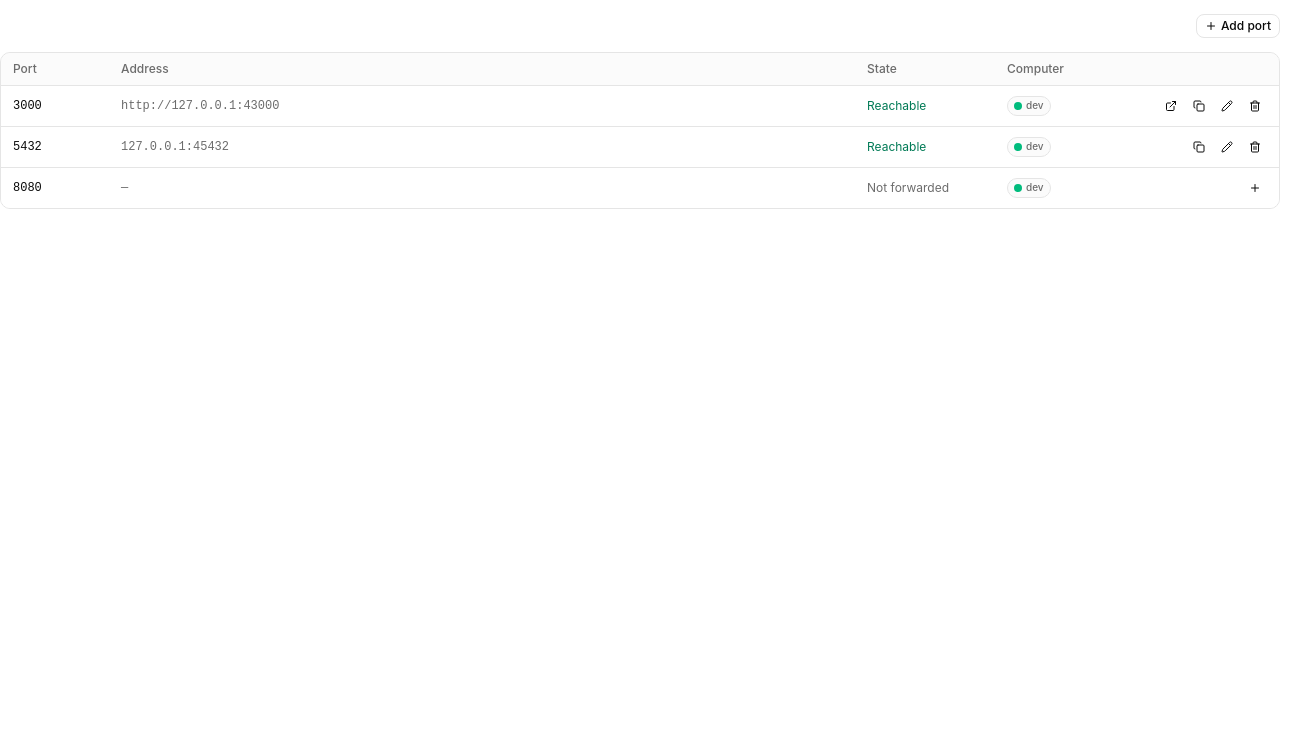
it: Network › adds an explicit mapping with automatic local port and preserves errors
Click the button "Add port".
click(1238, 26)  # box [1196,14,1280,38]
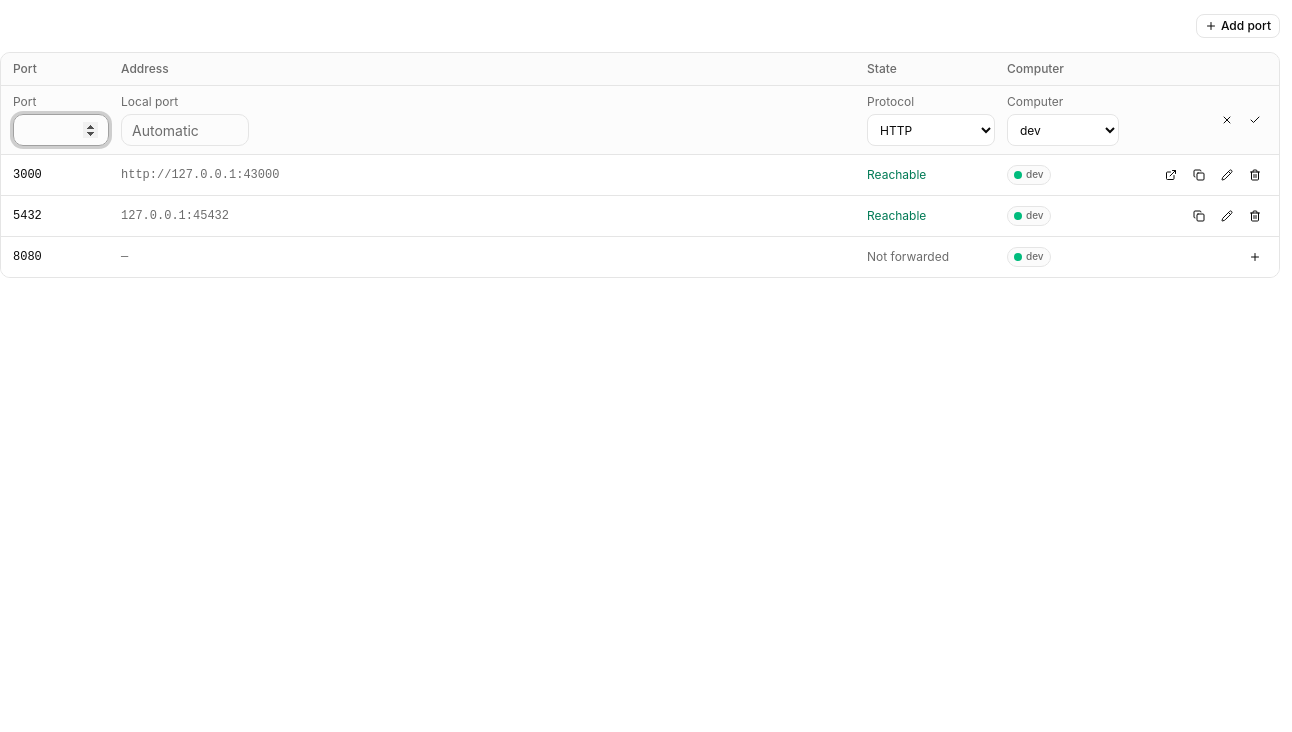
Type "9000" into the number field labelled "Port".
click(61, 130); type("9000")  # box [13,114,109,146]
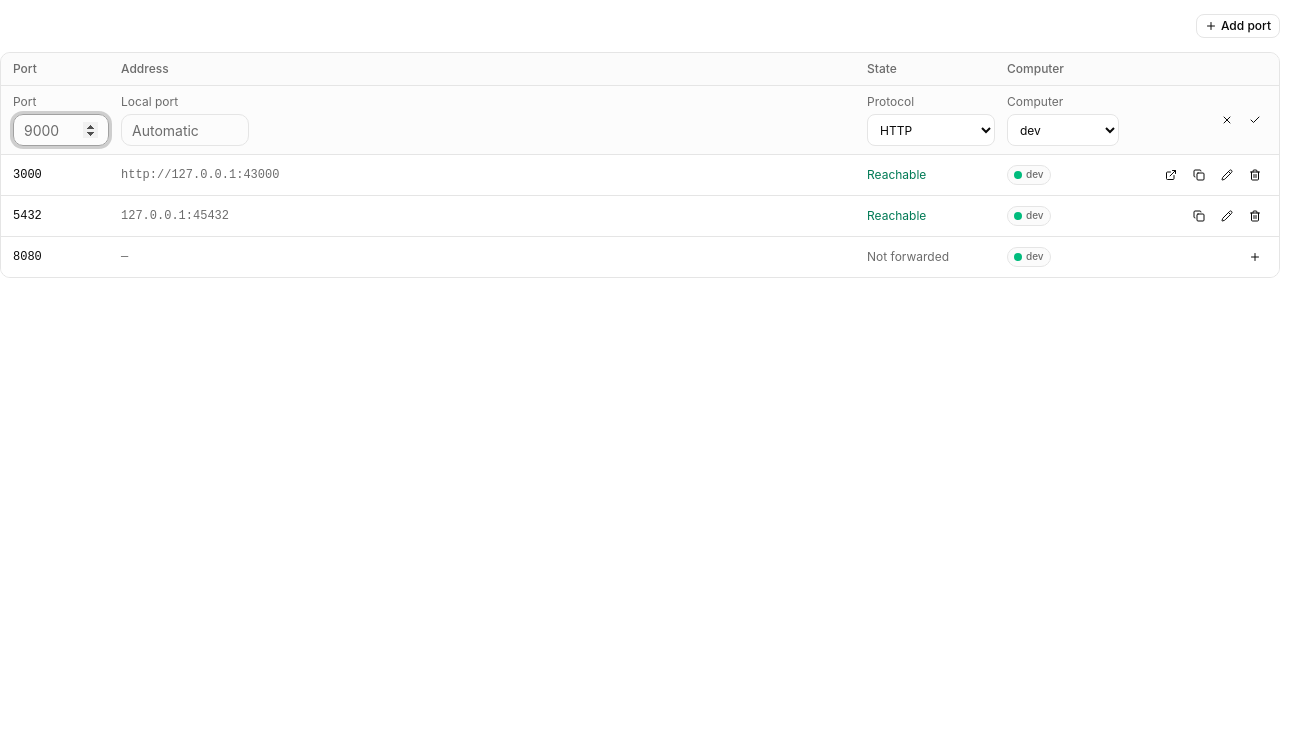
Select "TCP" in the dropdown labelled "Protocol" at (931, 130), box [867,114,995,146]
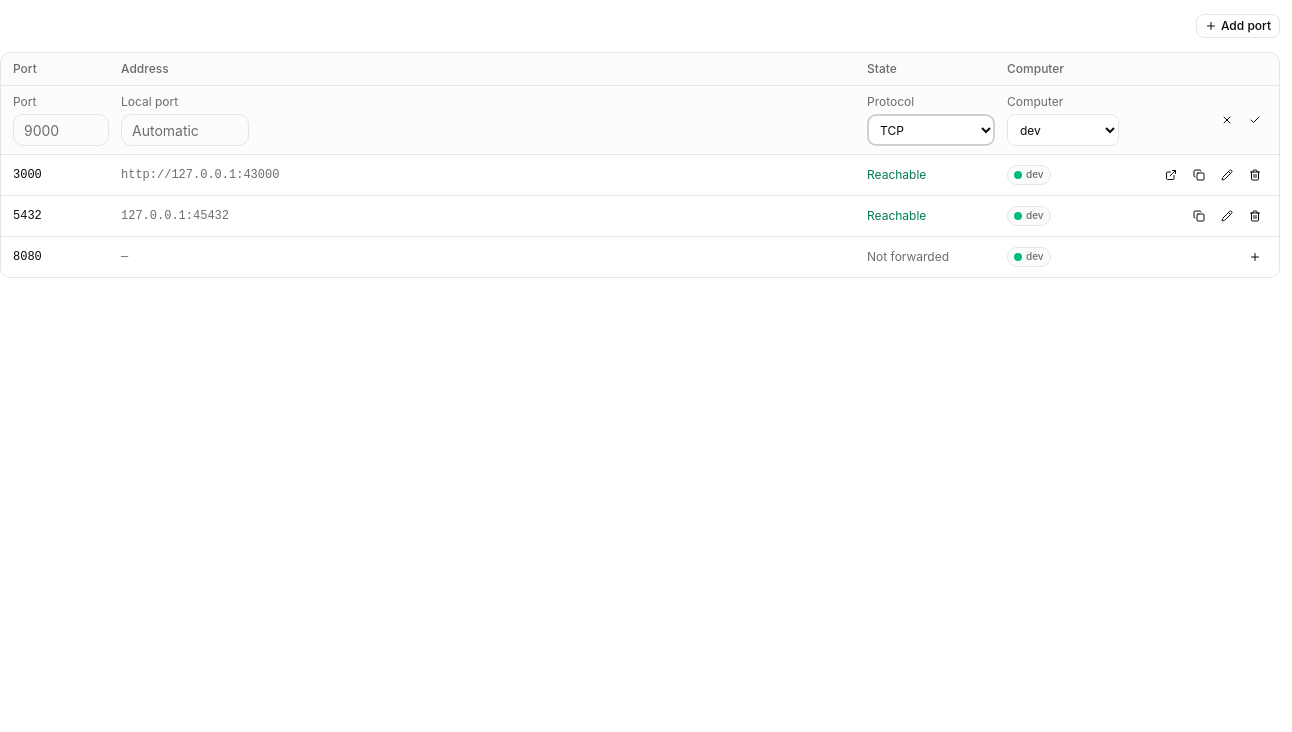
Click the button named "Add".
click(1255, 120)  # box [1243,108,1267,132]
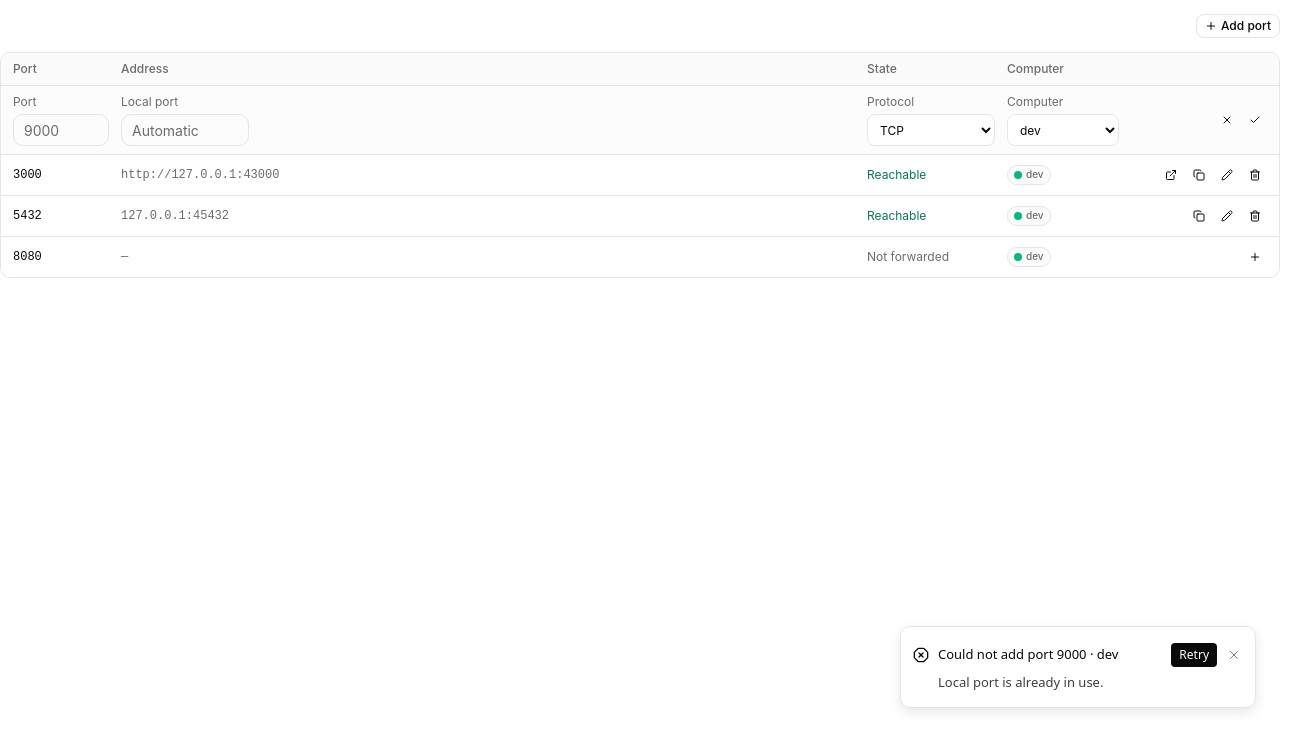
Expected: the text "Local port is already in use." is shown, [938,673,1104,691]
Expected: the text "Could not add port 9000 · dev" is shown, [938,645,1118,663]
Click the button "Retry".
click(1194, 655)  # box [1171,643,1217,667]
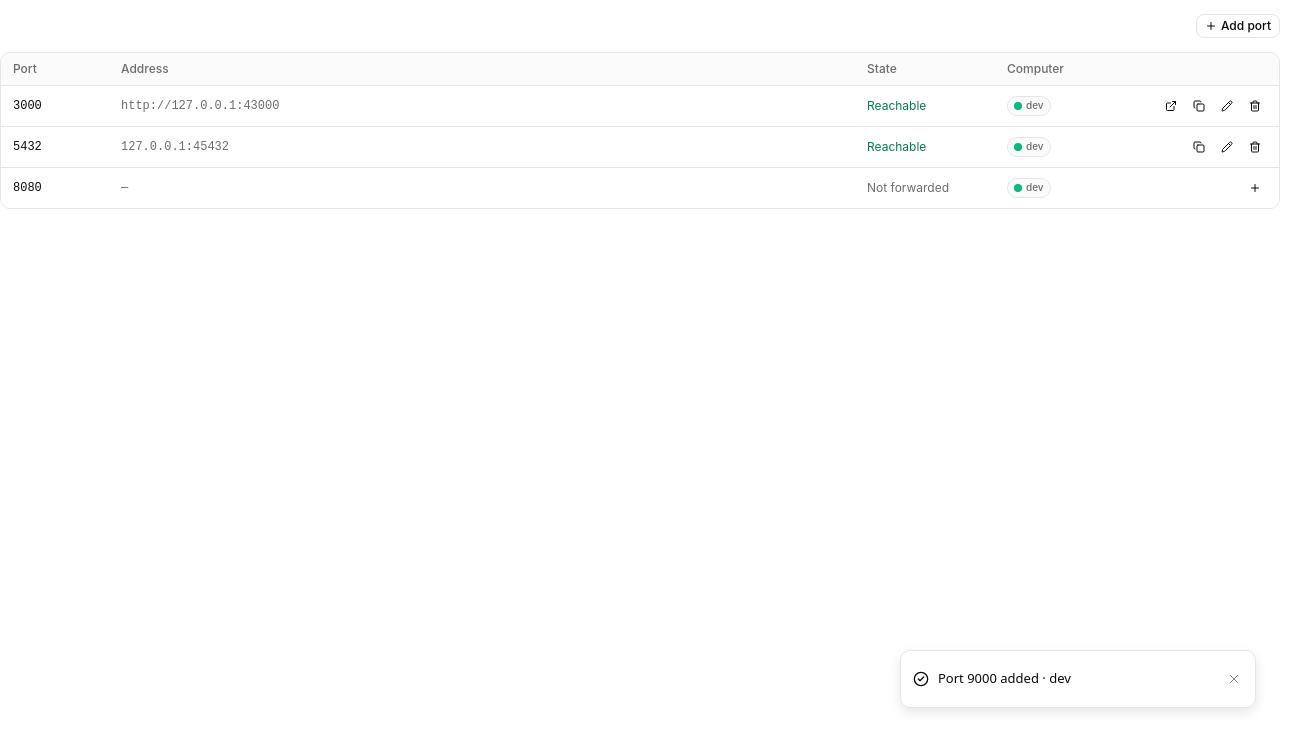
Expected: the text "Port 9000 added · dev" is shown, [938,669,1071,687]
